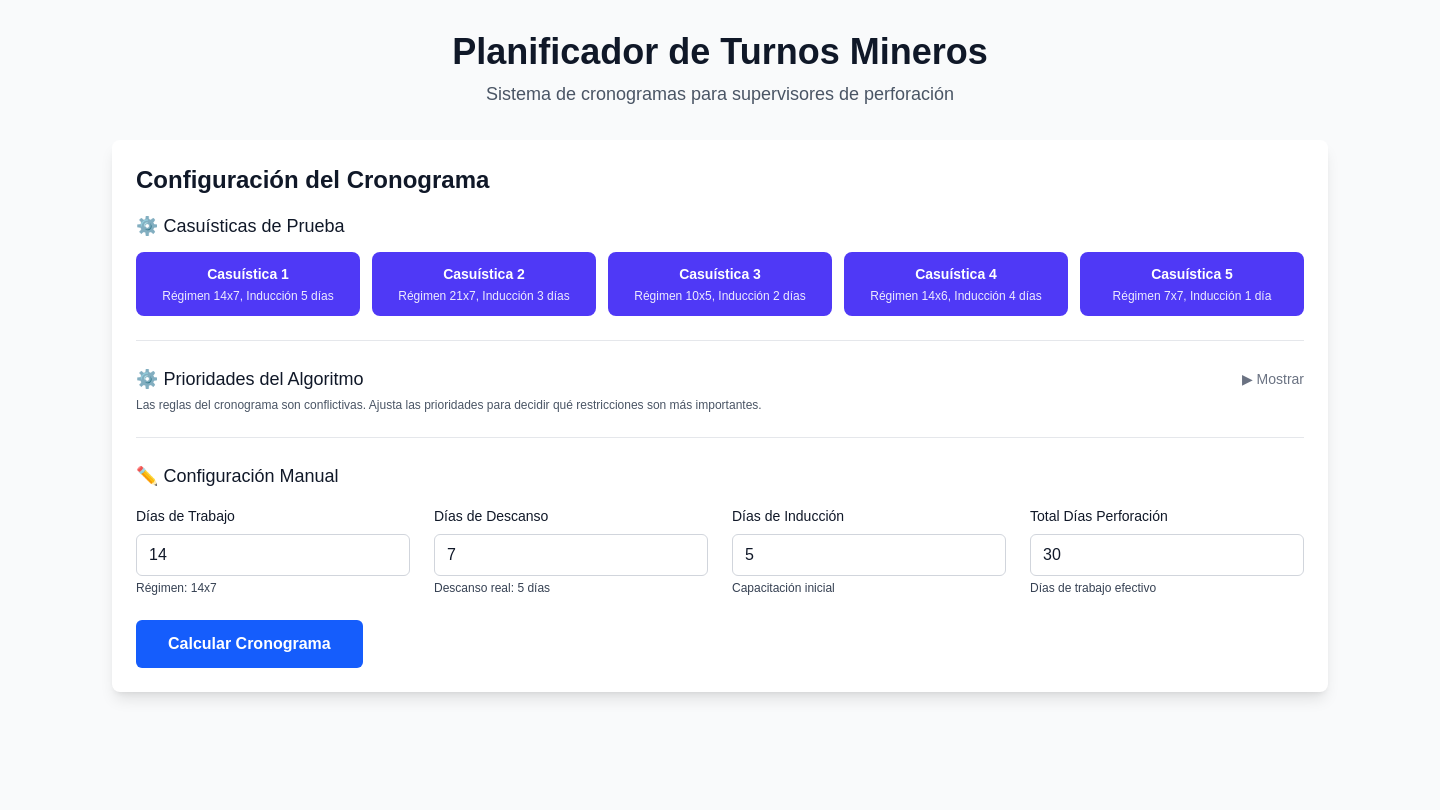
Test: SchedulePlanner Component › debe validar inputs y mostrar errores
Type "50" into the number field labelled "Días de Trabajo" at (273, 555), box [136,534,410,576]
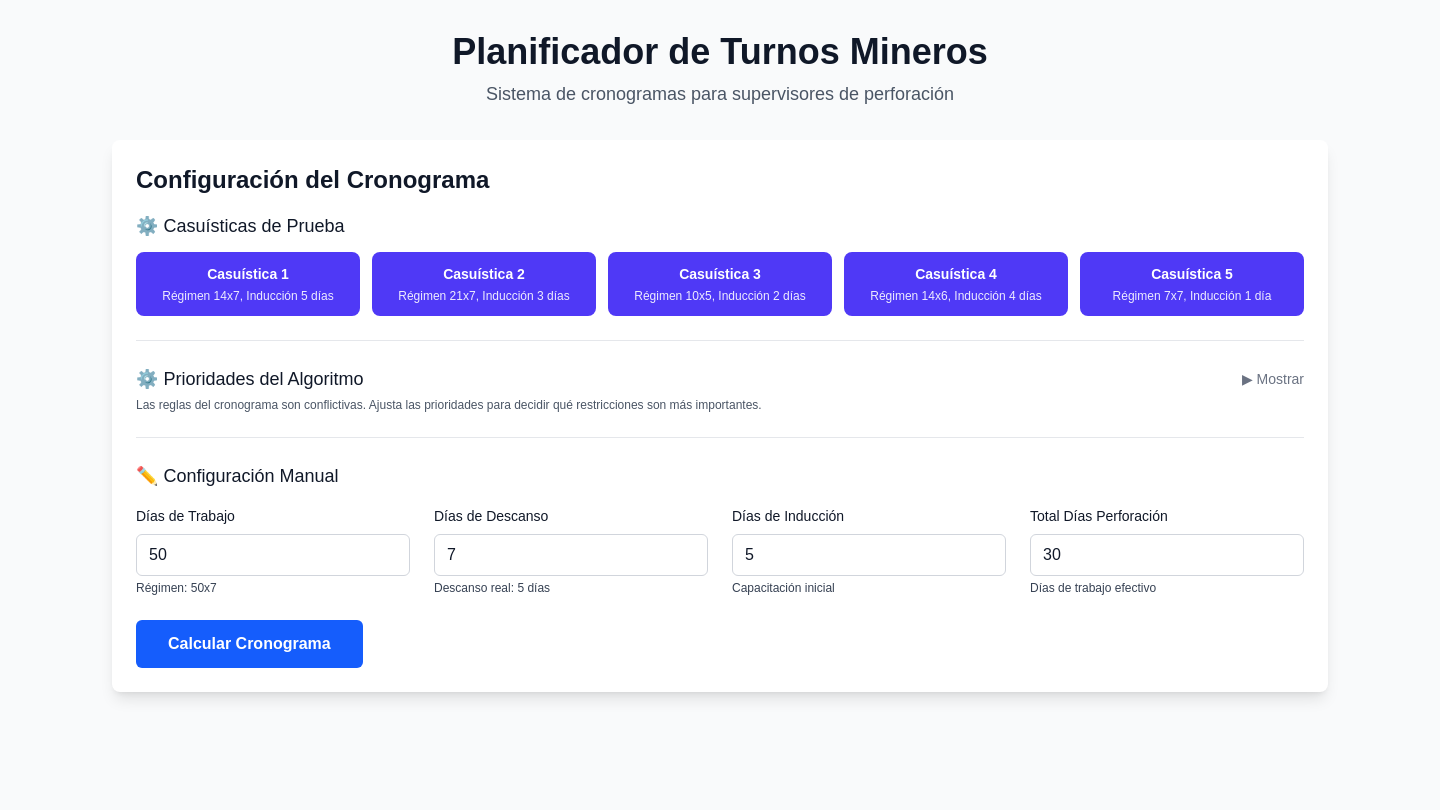
Click the button "Calcular Cronograma" at (249, 644), box [136,620,363,668]
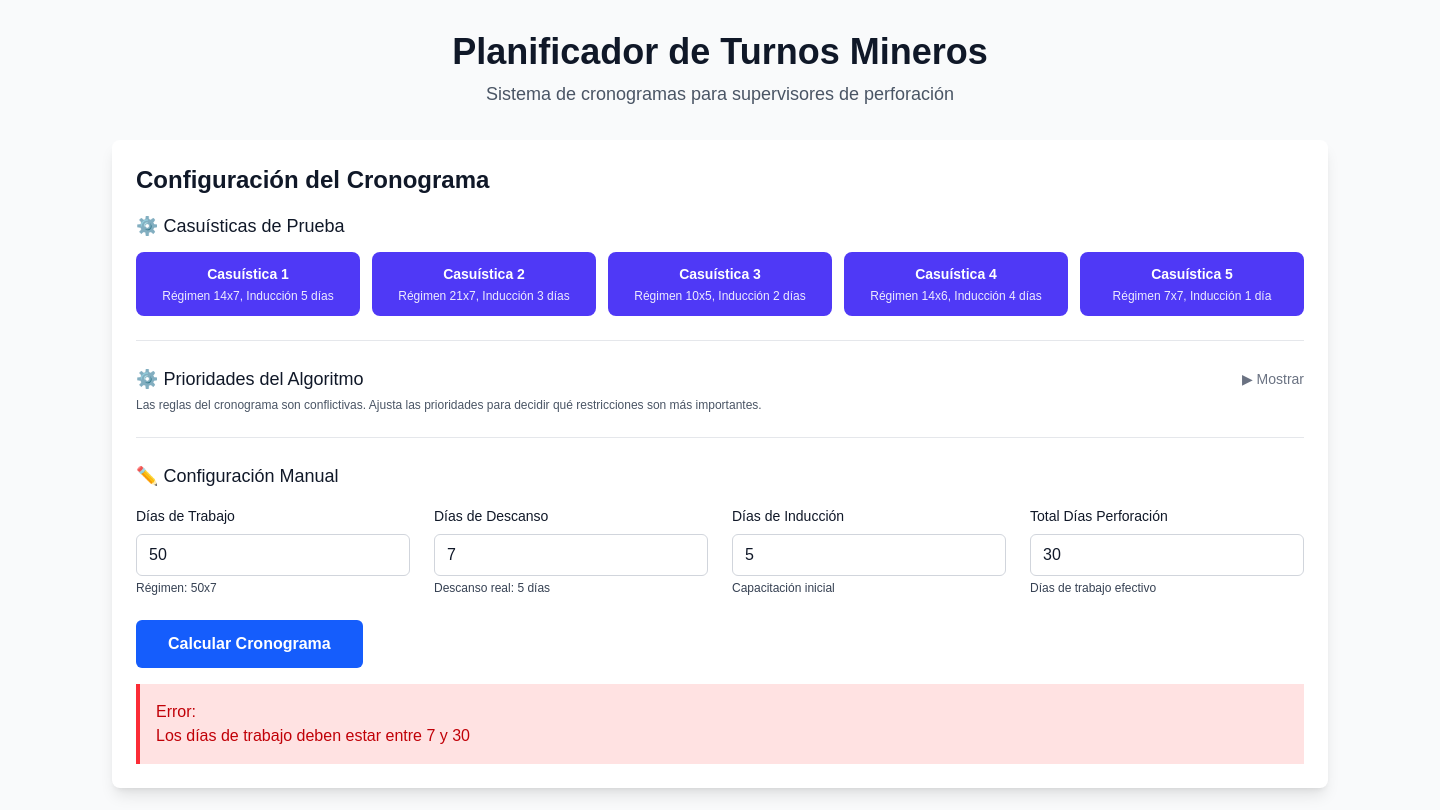
expect the text "Los días de trabajo deben estar entre 7 y 30" is shown: met, box [156,727,470,744]
